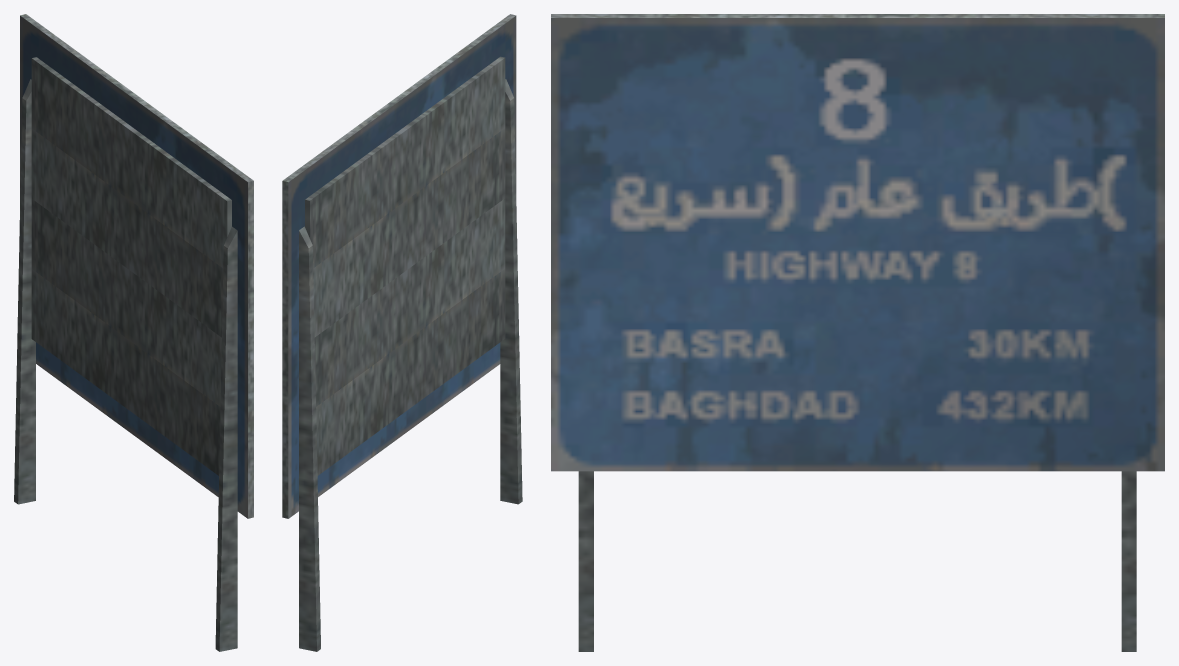
File: M8_RoadSign1.glb
The picture shows the model from 3 angles, left to right: view 1: azimuth 30°, elevation 25°; view 2: azimuth 150°, elevation 25°; view 3: azimuth 270°, elevation 25°; orthographic projection. The views are drawn at different scales.
Visible parts, largest first — view 1: M8_ROADSIGN1; view 2: M8_ROADSIGN1; view 3: M8_ROADSIGN1.
Part boxes in pixels (x1,y1,x2,y2): M8_ROADSIGN1: (14, 14, 253, 651); M8_ROADSIGN1: (282, 14, 522, 651); M8_ROADSIGN1: (551, 14, 1164, 651).
Bounding box in the file's own units: 0.146 × 2.83 × 2.47.
Materials: 1 (1 with a texture image).
